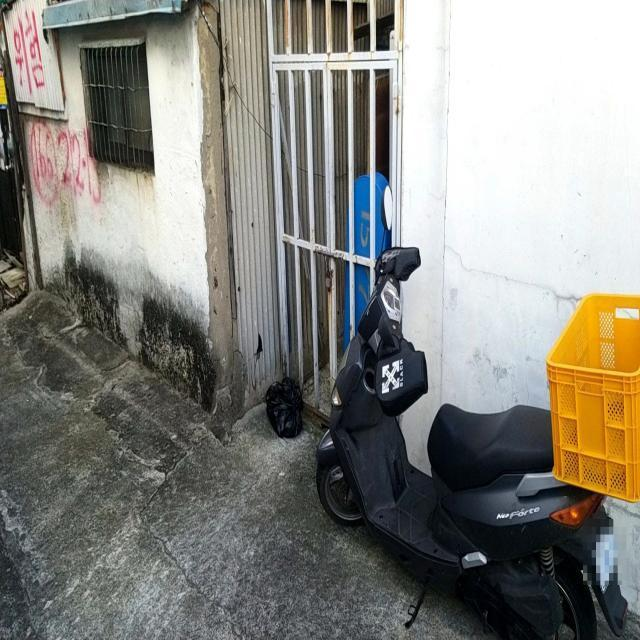Trashbag: (261, 378, 303, 439)
